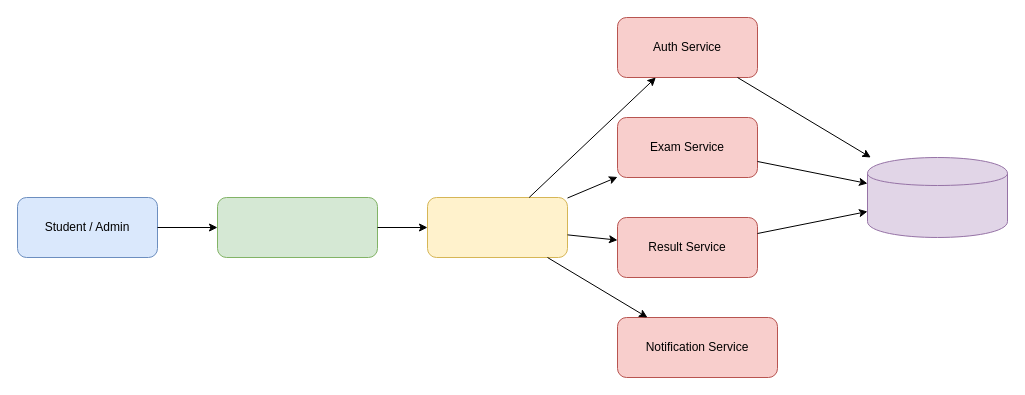
The diagram is 1025 pixels wide and 395 high, and some of its shapes have lost their labels. Each missing label, with the centre of its shape:
API Gateway: pixel 497 227
Database Cluster: pixel 937 197
Web / Mobile UI: pixel 297 227
